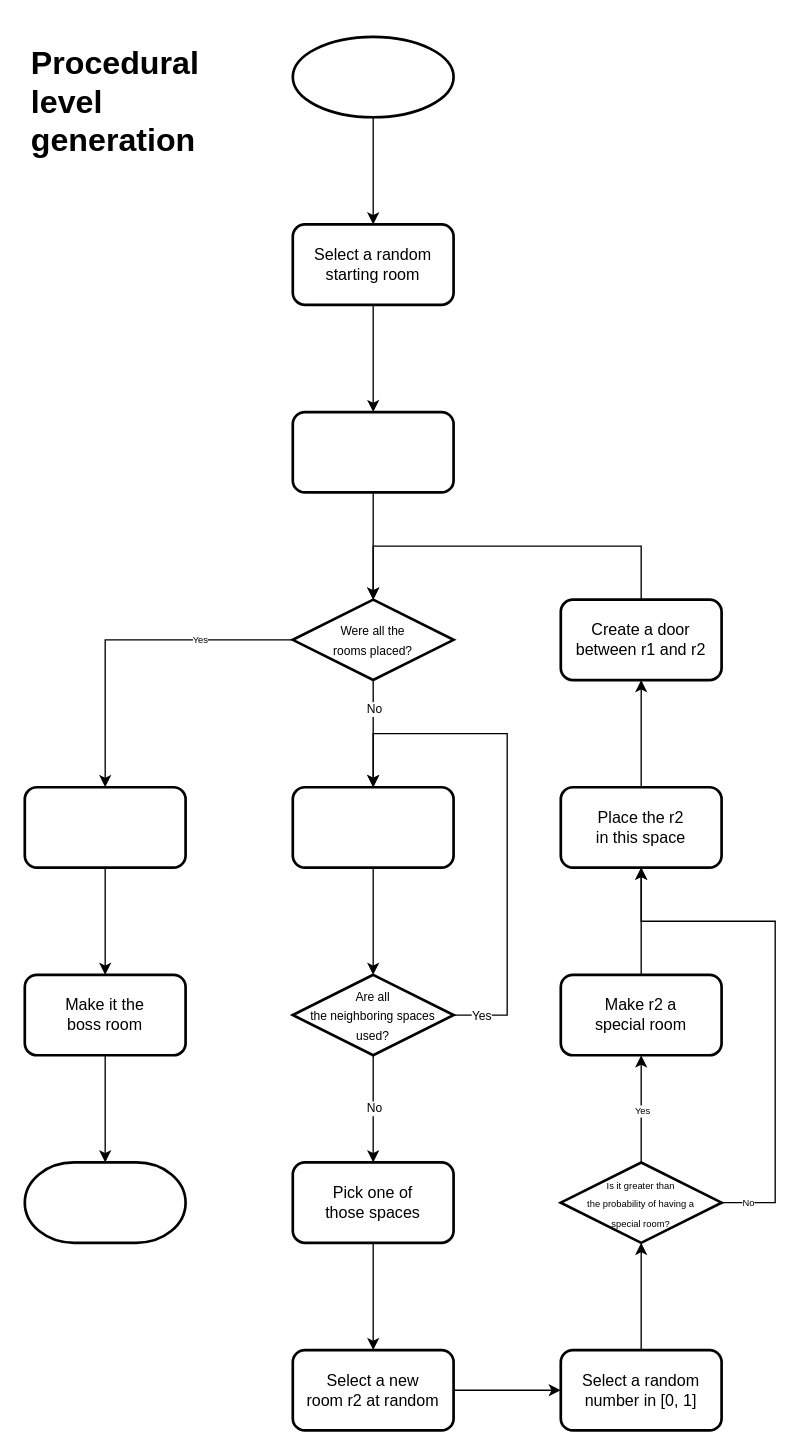
Image size: 809x1454. Some labels were removed from this diagram. Here are the shapes that lost their labels. From the top down, the centre of each, then its label:
(x=372, y=76): Generate level
(x=372, y=451): Place it at (0, 0)
(x=104, y=826): Select the room the furthest from (0, 0)
(x=372, y=826): Select a random placed room r1
(x=104, y=1202): End
